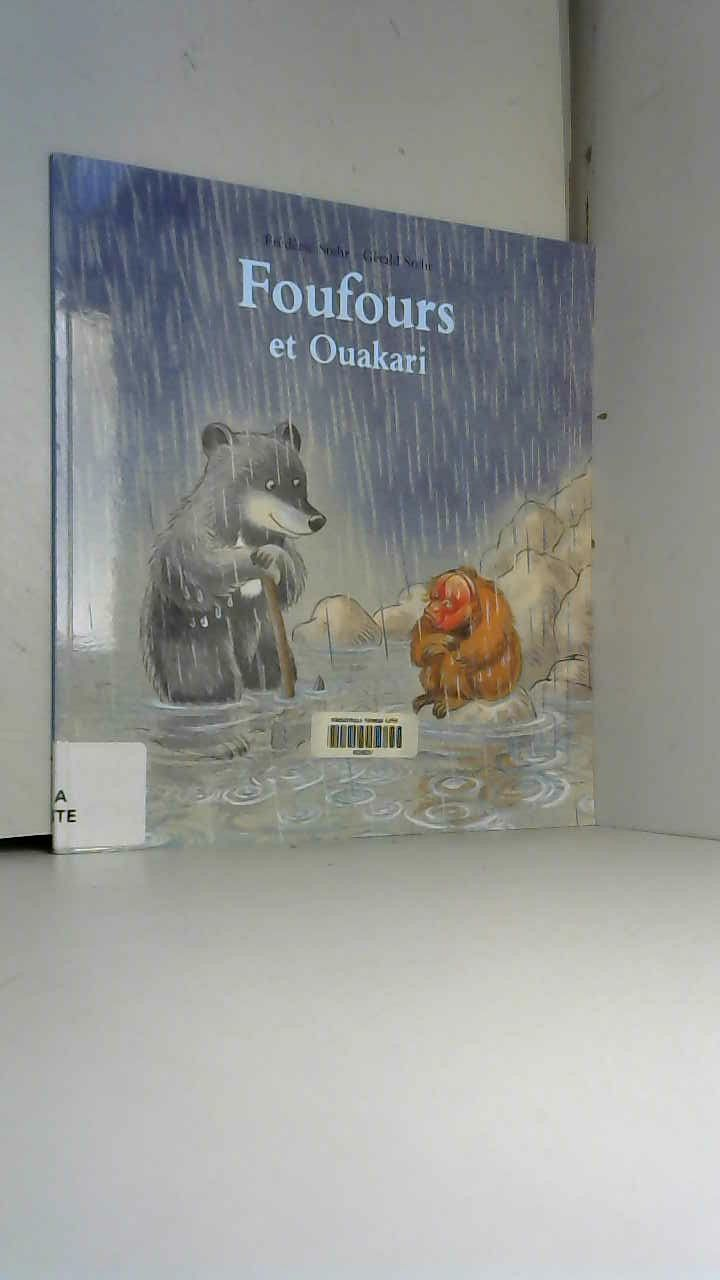book: (9, 131, 629, 904)
